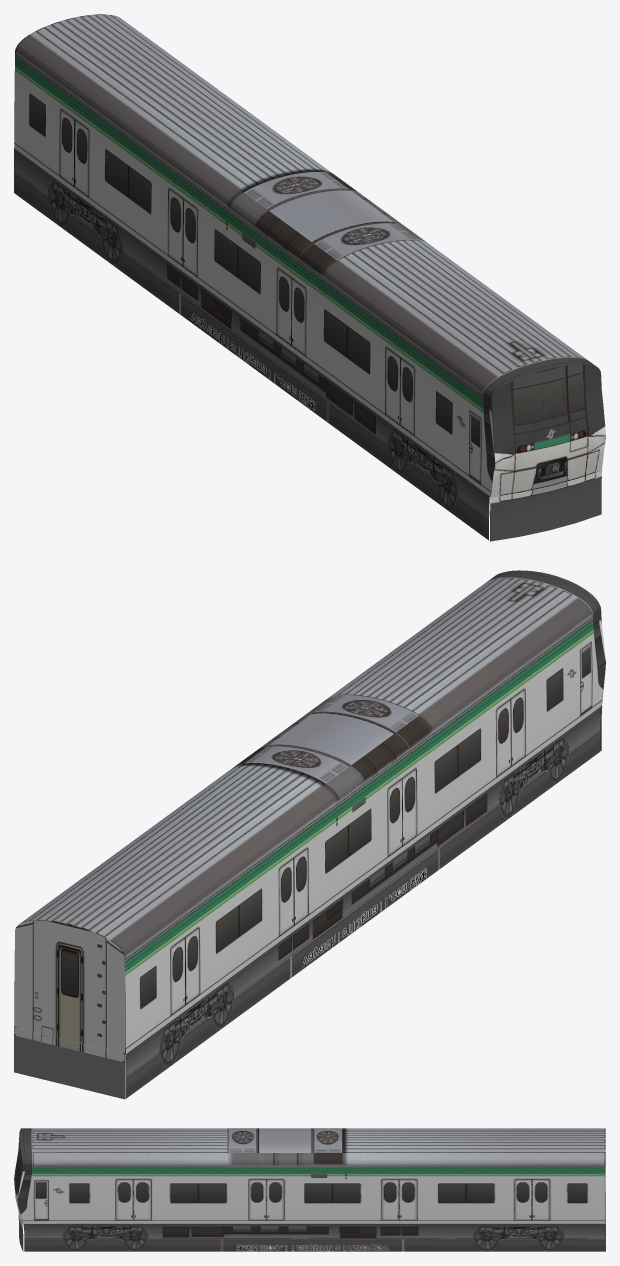
Rendered from car1.glb.
3 renders of one model, top to bottom at view 1: azimuth 30°, elevation 25°; view 2: azimuth 150°, elevation 25°; view 3: azimuth 270°, elevation 25°, orthographic. The views are drawn at different scales.
Visible parts, largest first — view 1: sendai-sub-3000-car1; view 2: sendai-sub-3000-car1; view 3: sendai-sub-3000-car1.
Part boxes in pixels (box(x1,y1,x2,y2)): sendai-sub-3000-car1: box(14, 14, 605, 541); sendai-sub-3000-car1: box(14, 570, 605, 1099); sendai-sub-3000-car1: box(14, 1128, 605, 1251).
Bounding box in the file's own units: 2.89 × 3.99 × 21.74.
9 materials, 8 textured.
